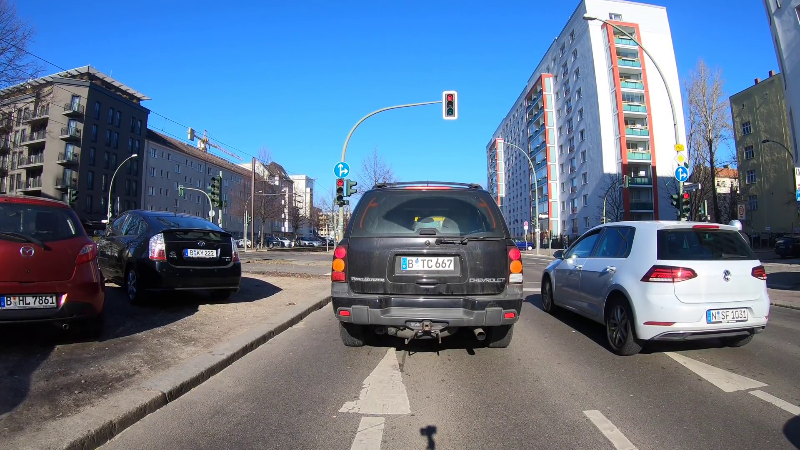Plate: (1, 288, 60, 311), (401, 254, 455, 271), (705, 307, 750, 324), (183, 246, 221, 260)
